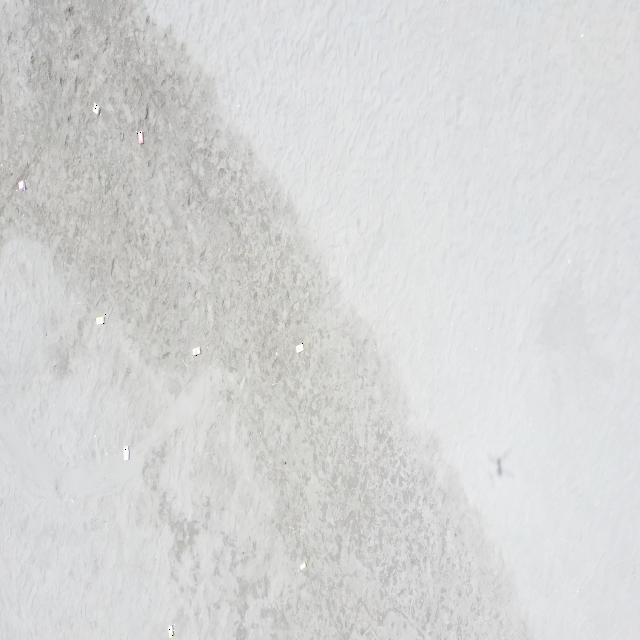retort-pouch: (15, 178, 27, 192), (136, 130, 146, 145), (92, 103, 103, 116), (96, 314, 107, 326), (294, 343, 305, 354), (191, 345, 201, 357), (122, 446, 130, 461), (168, 624, 176, 638), (298, 561, 307, 571)
